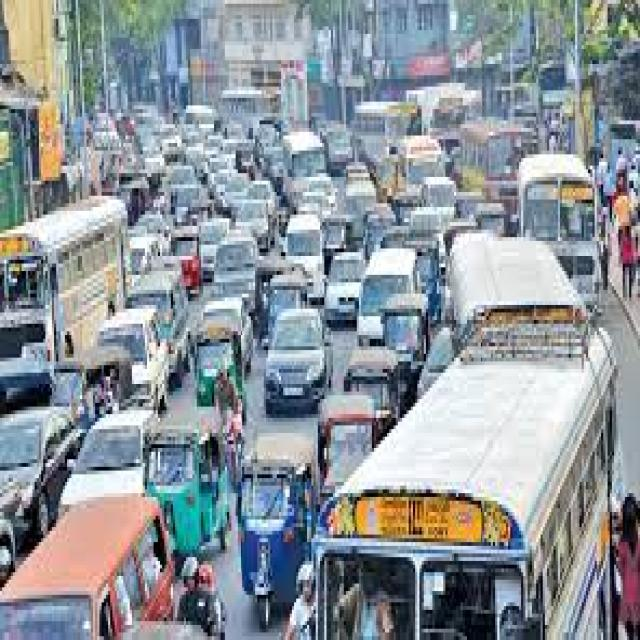bus: (314, 248, 612, 640), (0, 200, 125, 361), (448, 233, 586, 361), (519, 154, 599, 309), (461, 120, 536, 233)
car: (0, 407, 80, 580), (61, 410, 151, 512), (128, 267, 188, 384), (266, 309, 324, 414), (212, 230, 253, 316), (285, 215, 322, 305), (324, 252, 363, 324), (236, 200, 268, 252), (201, 218, 227, 282), (130, 233, 158, 275)
person: (333, 561, 396, 640), (179, 557, 225, 640), (285, 561, 314, 640)
three wheeler: (242, 433, 309, 629), (147, 422, 227, 557), (344, 346, 398, 474), (52, 346, 128, 429), (318, 392, 374, 501), (383, 297, 426, 407), (197, 320, 242, 407), (268, 271, 305, 335), (171, 226, 199, 294)
van: (0, 497, 171, 640), (99, 305, 164, 493), (357, 248, 413, 346)
